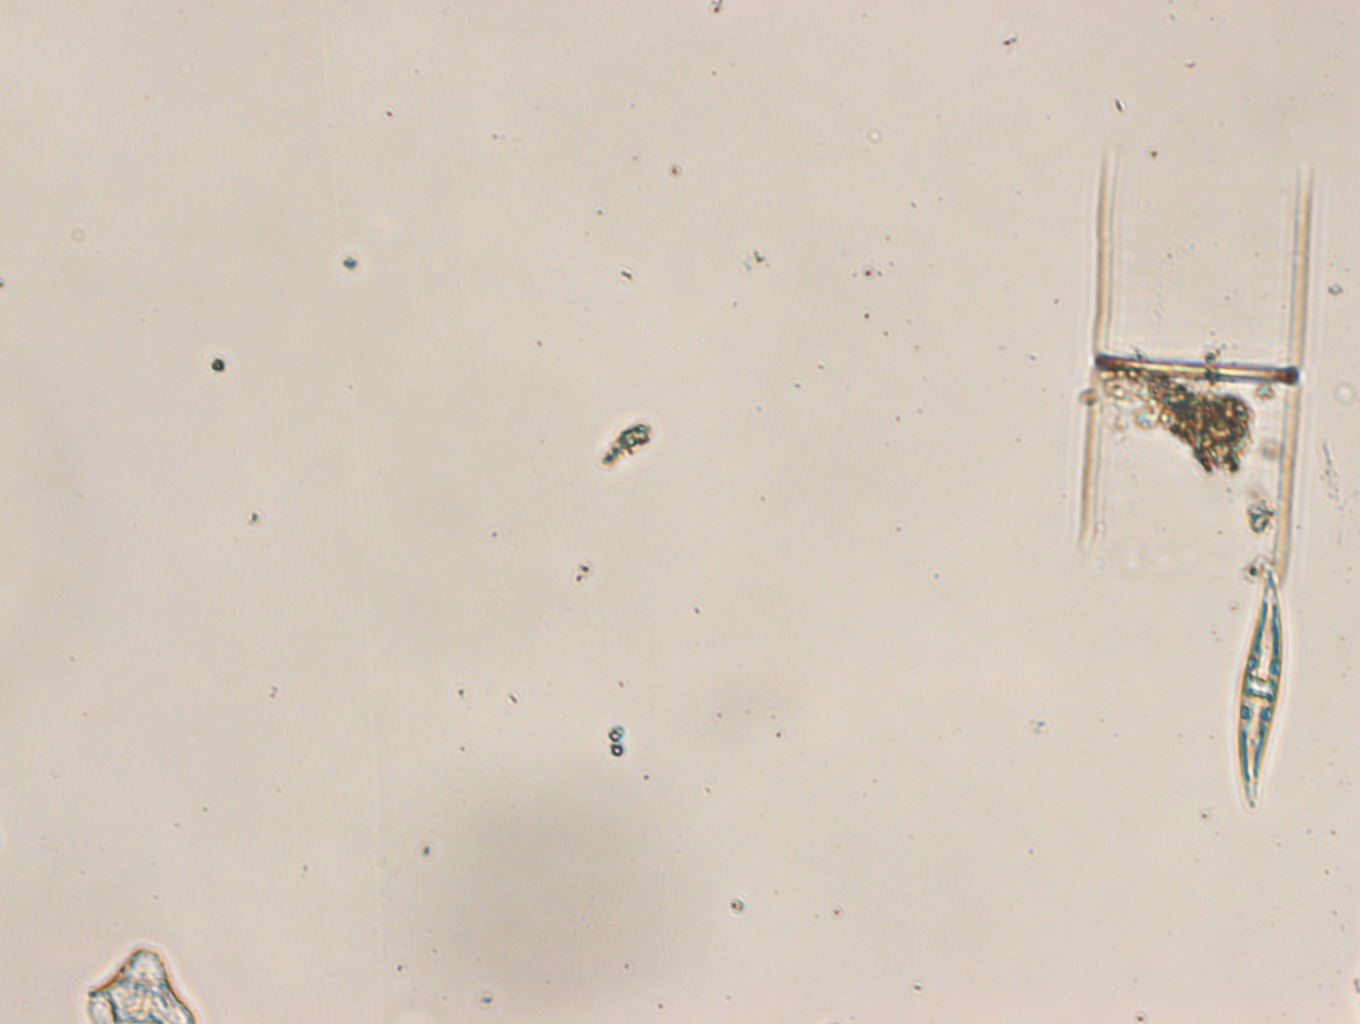guinardia flaccida: (1075, 140, 1316, 601)
pleurosigma pelagicum: (1235, 569, 1284, 812)
